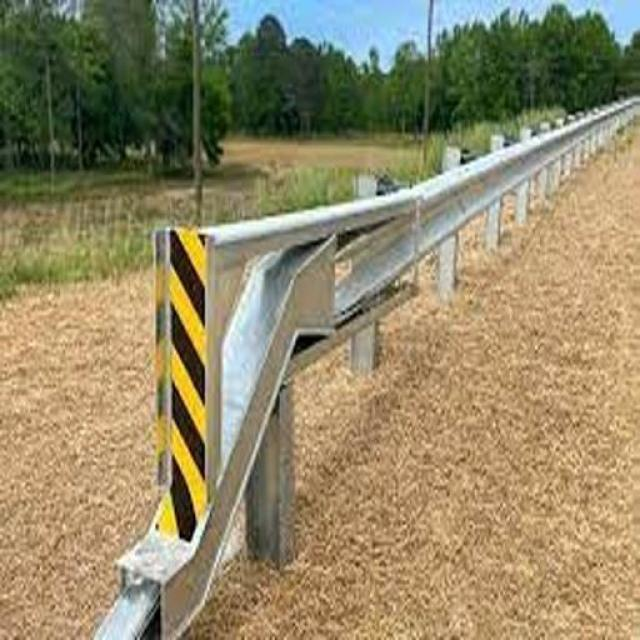Guard rail: (83, 86, 640, 640)
